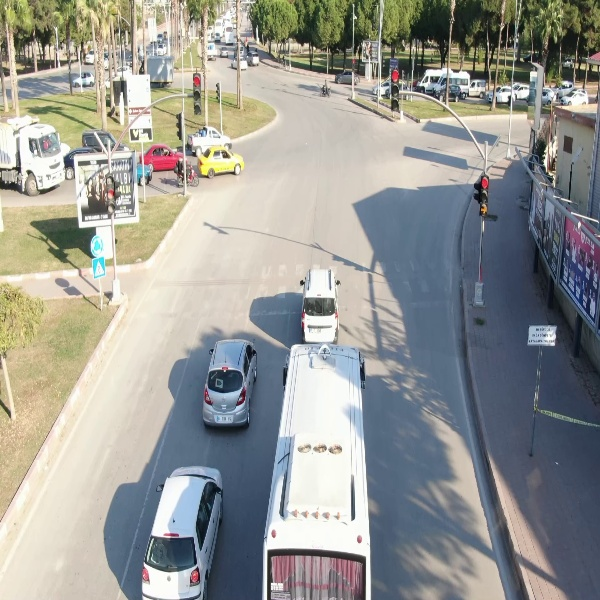car: (139, 463, 227, 600), (200, 337, 261, 432), (298, 267, 343, 347), (197, 144, 245, 178), (434, 84, 464, 103), (334, 68, 362, 85), (72, 69, 95, 89), (561, 90, 589, 106)
